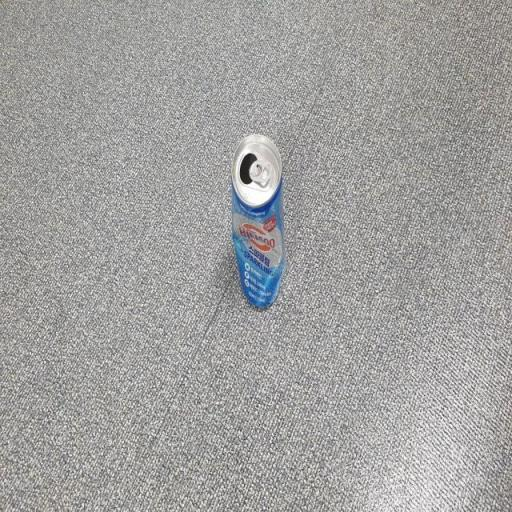metal: (218, 98, 310, 323)
